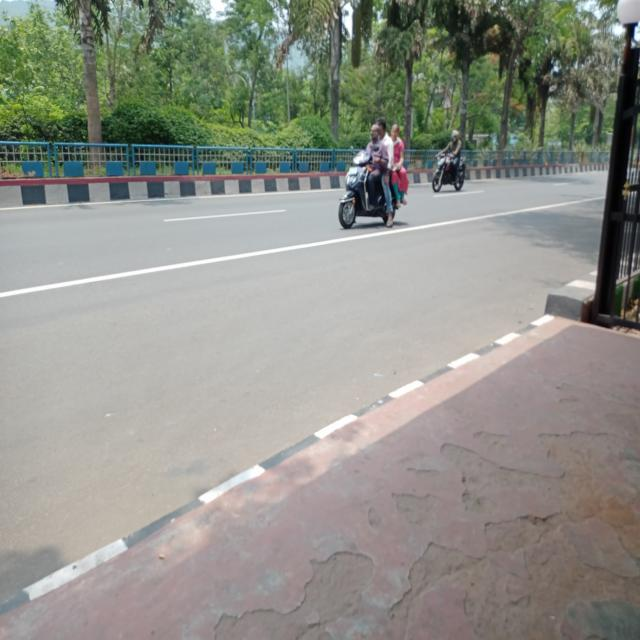bike: (332, 152, 424, 218)
car: (429, 153, 476, 198)
